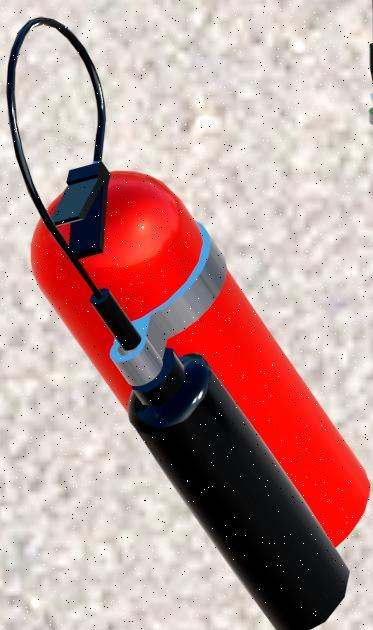Fire Extinguisher: (5, 10, 373, 630)
